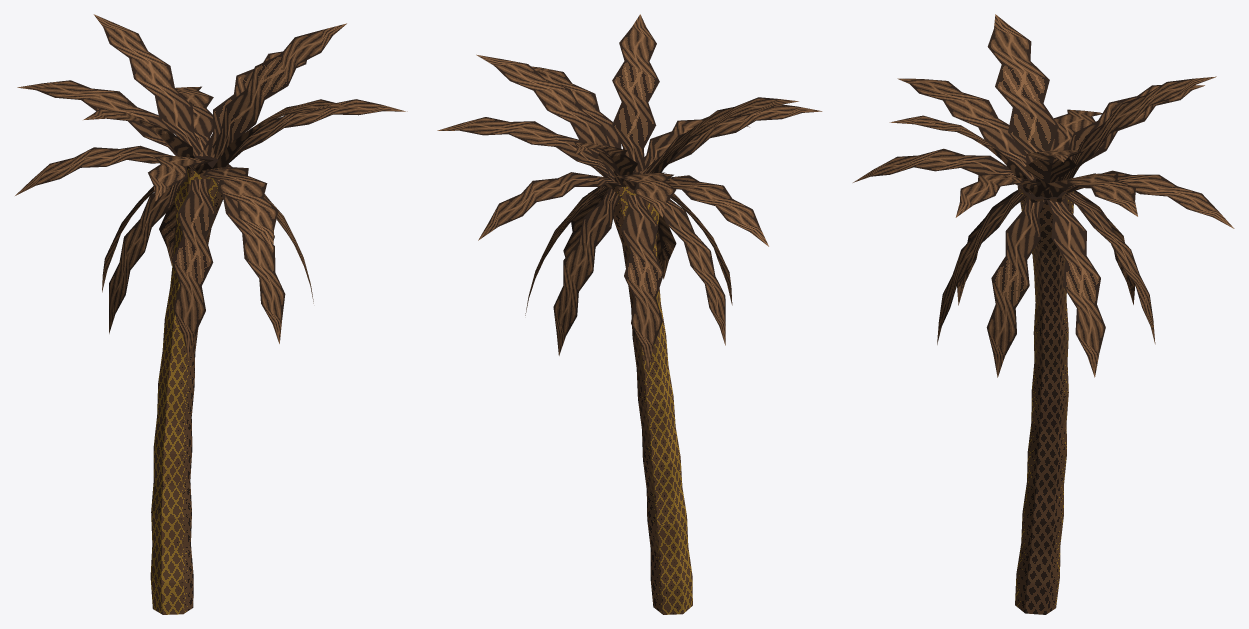
Rendered from FLO-13_Palma_de_estopa_a.gltf.
3 views of the same model, side by side, from view 1: azimuth 30°, elevation 25°; view 2: azimuth 150°, elevation 25°; view 3: azimuth 270°, elevation 25° (orthographic). The views are drawn at different scales.
Parts seen in each view (by area): view 1: FLO-13_Palma_de_estopa_a; view 2: FLO-13_Palma_de_estopa_a; view 3: FLO-13_Palma_de_estopa_a.
Part boxes in pixels (left/top/right/bottom): FLO-13_Palma_de_estopa_a: left=15, top=14, right=407, bottom=614; FLO-13_Palma_de_estopa_a: left=437, top=14, right=822, bottom=614; FLO-13_Palma_de_estopa_a: left=853, top=14, right=1234, bottom=614.
Size of what is drawn, in the model's own units: 2.65 by 4.15 by 2.67.
1 material, 1 textured.
